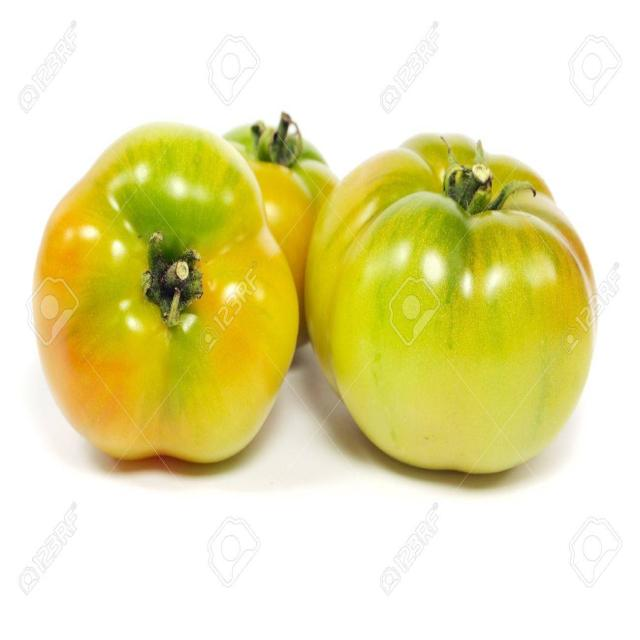yesil: (32, 111, 596, 482)
